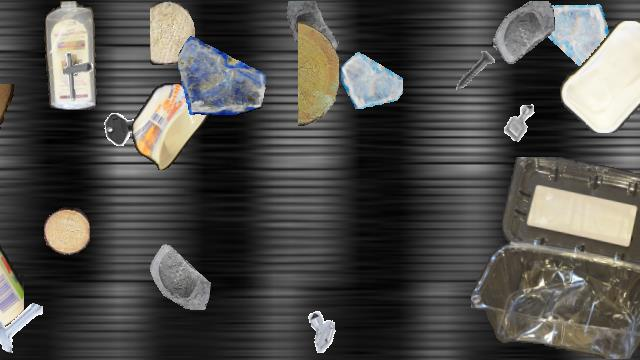glass: (178, 29, 266, 117), (137, 235, 211, 309), (539, 1, 611, 73), (583, 240, 640, 316), (283, 1, 347, 65), (341, 47, 403, 109), (492, 1, 554, 63)
metal: (48, 49, 102, 103), (449, 45, 503, 99), (494, 97, 546, 149), (0, 298, 42, 352), (302, 308, 346, 352), (102, 107, 144, 149)
plastic: (471, 157, 640, 359), (559, 21, 640, 133), (132, 83, 210, 169), (42, 1, 100, 109), (0, 211, 24, 335)
wood: (298, 22, 338, 126), (150, 1, 194, 65), (44, 207, 90, 255), (0, 84, 15, 164)
